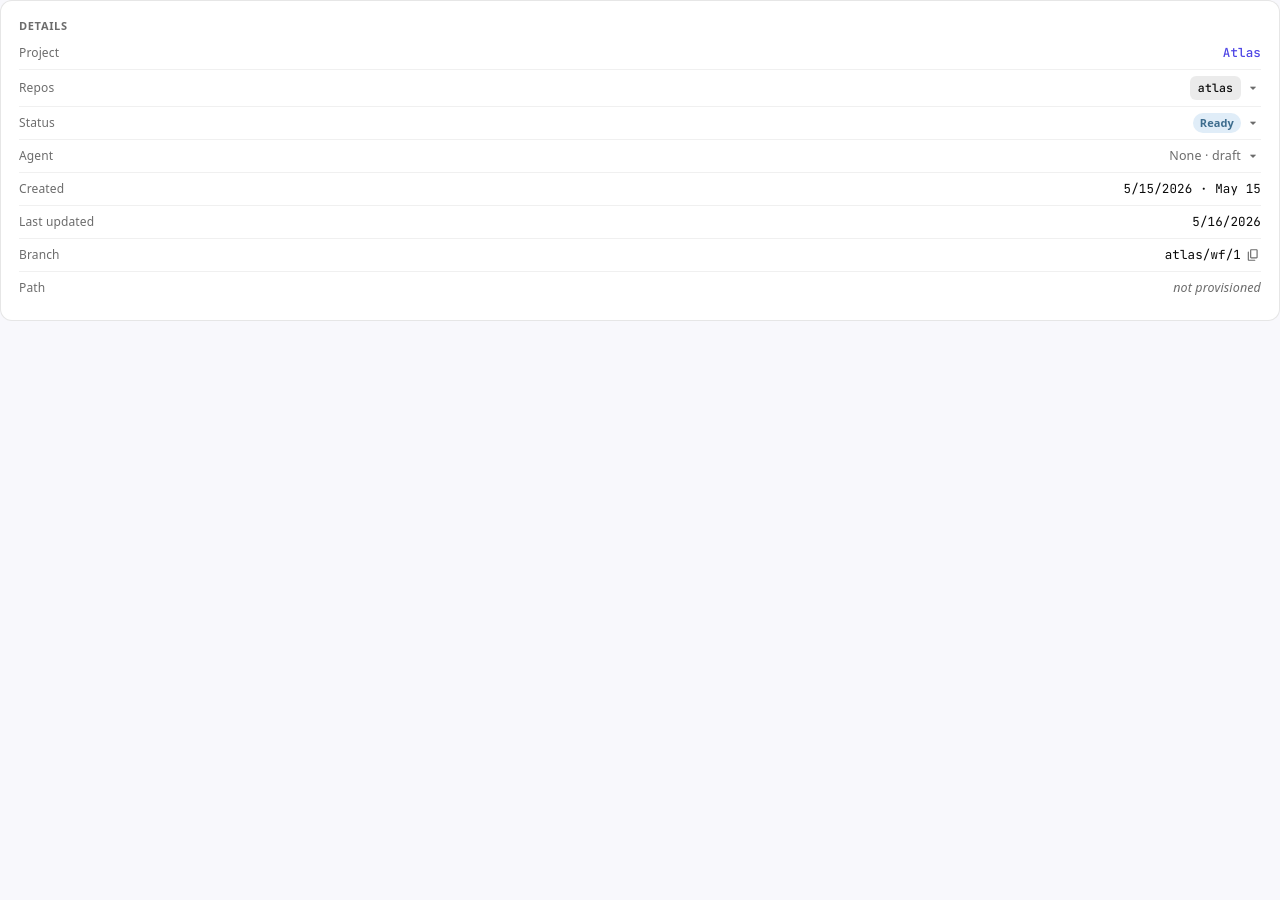
Test: DetailsRailCard › Repos row (ADR 0018) › a refused save closes the dialog and leaves the toast to the mutation hook
What coordinates should you click on to do the following:
click the button "Repos atlas"
I would click on:
 (37, 88)
Its box is [19,69,1261,106].
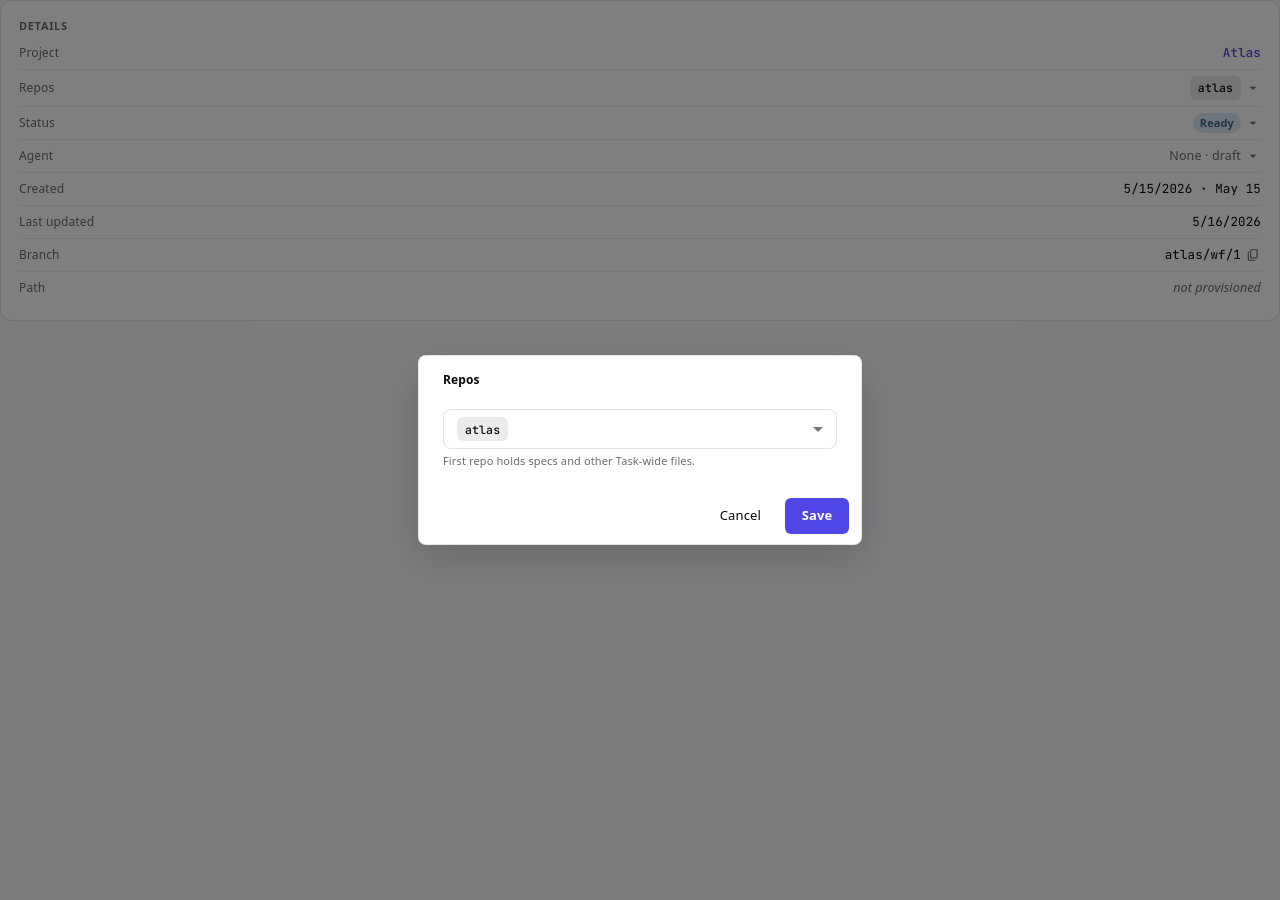
What coordinates should you click on to do the following:
click the button "Save"
I would click on:
 (817, 516)
Its box is [785,498,849,534].
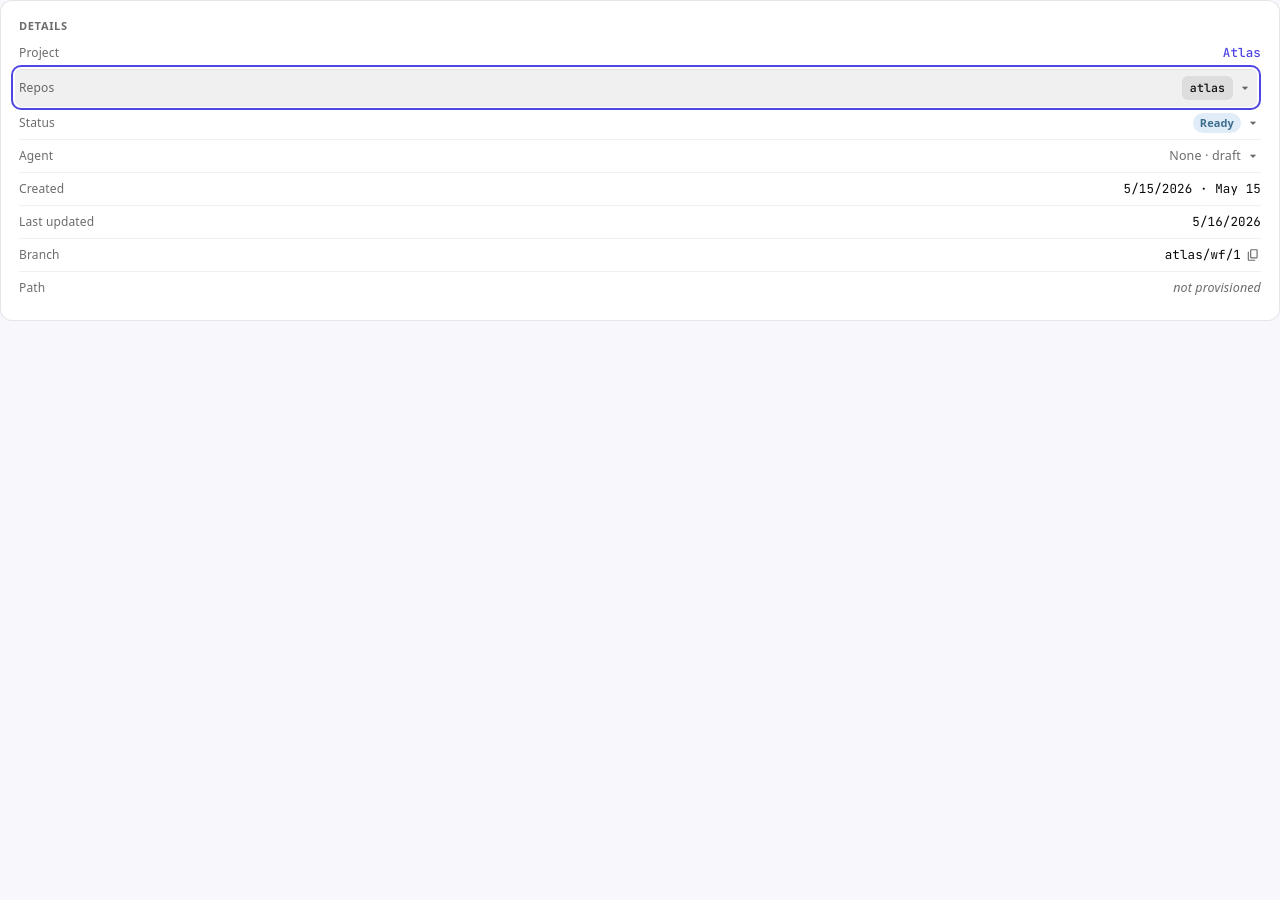
Now the dialog is gone
Now the dropdown "Stop the run to change repos" is gone
